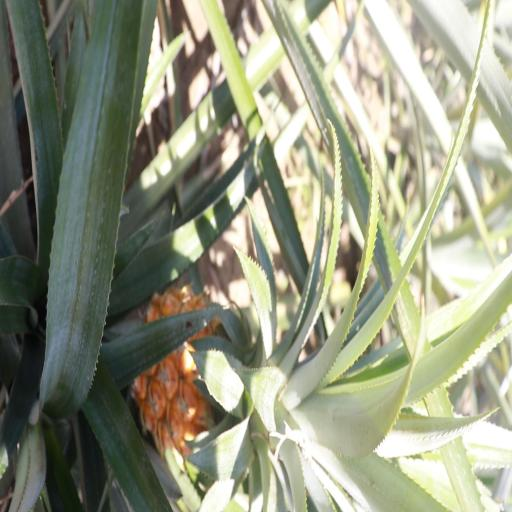Pineapple - v8 v1: (132, 291, 411, 495)
